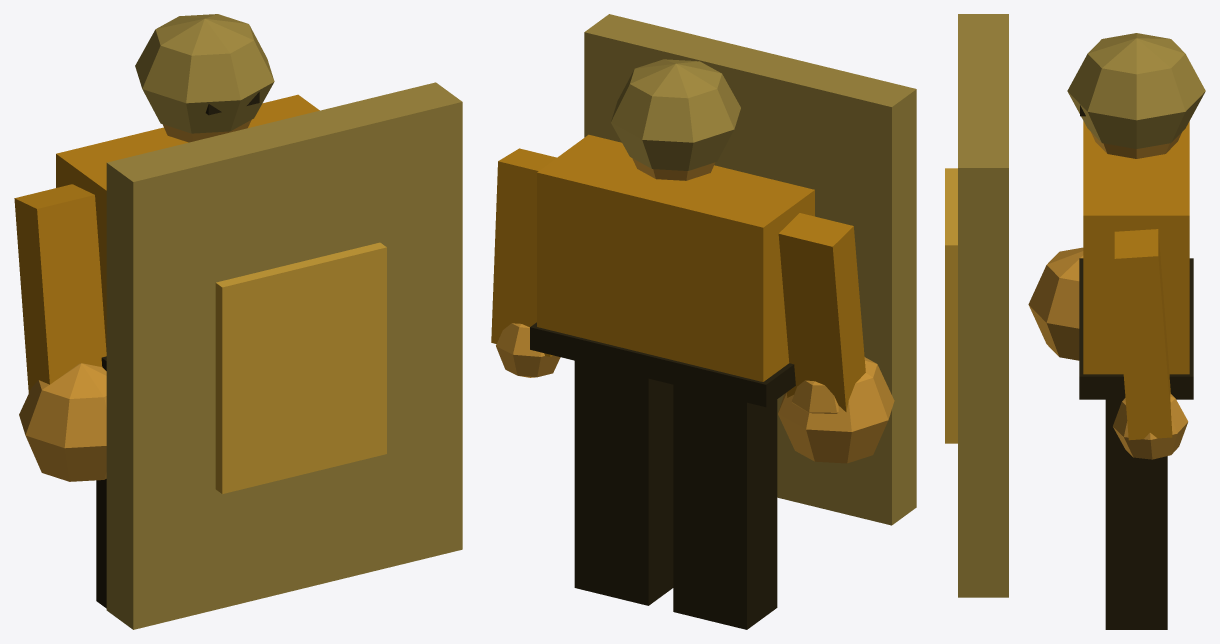
Rendered from SM_Champion_9006_Les.glb.
3 renders of one model, left to right at view 1: azimuth 30°, elevation 25°; view 2: azimuth 150°, elevation 25°; view 3: azimuth 270°, elevation 25°, orthographic. The views are drawn at different scales.
Visible parts, largest first — view 1: SM_Champion_9006_Les; view 2: SM_Champion_9006_Les; view 3: SM_Champion_9006_Les.
Boxes of the visible parts, x1=… form: SM_Champion_9006_Les: x1=14, y1=14, x2=462, y2=629; SM_Champion_9006_Les: x1=491, y1=14, x2=916, y2=629; SM_Champion_9006_Les: x1=945, y1=14, x2=1205, y2=629.
Bounding box in the file's own units: 1.44 × 2.04 × 0.8784.
